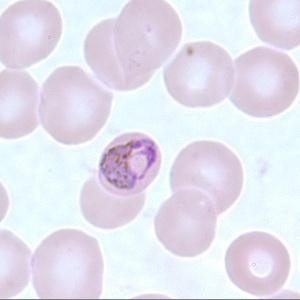Infected: (98, 128, 162, 196)
Uninfected: (169, 140, 246, 215), (113, 0, 182, 83), (40, 66, 112, 144), (226, 46, 300, 118), (84, 15, 152, 91), (32, 228, 103, 300), (164, 40, 235, 108), (154, 188, 217, 258), (0, 0, 63, 68), (224, 230, 290, 294), (81, 171, 145, 230)
